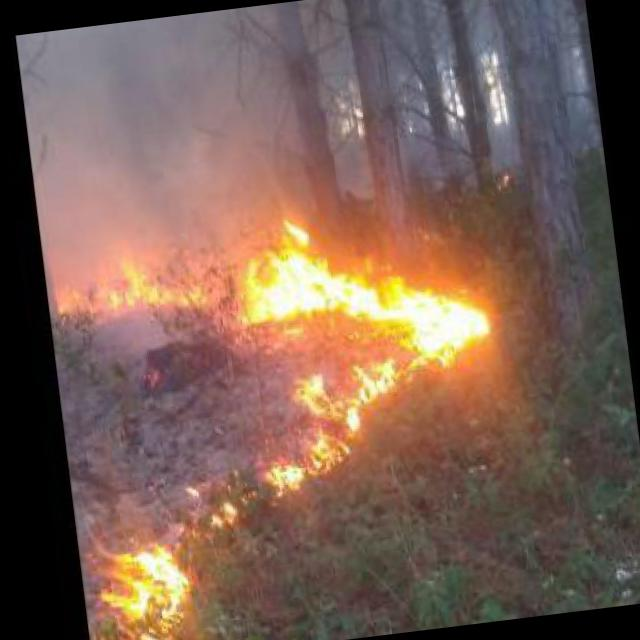fire: (176, 192, 518, 547), (94, 527, 197, 640), (62, 257, 200, 324)
